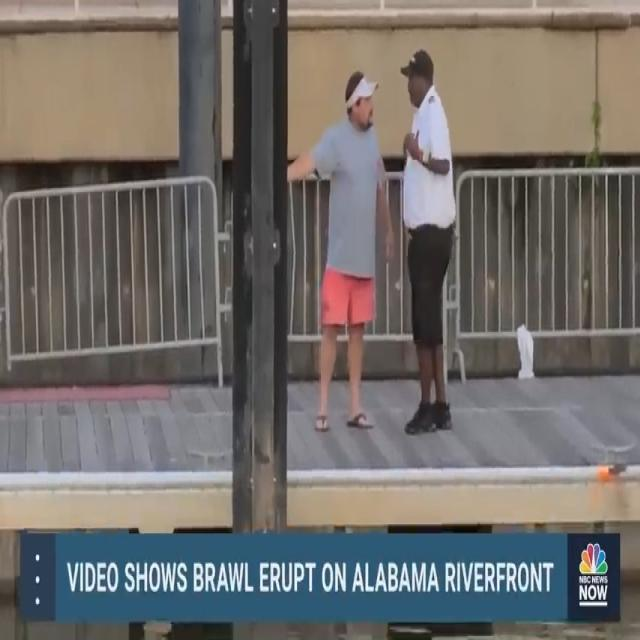non-fight: (286, 30, 466, 444)
